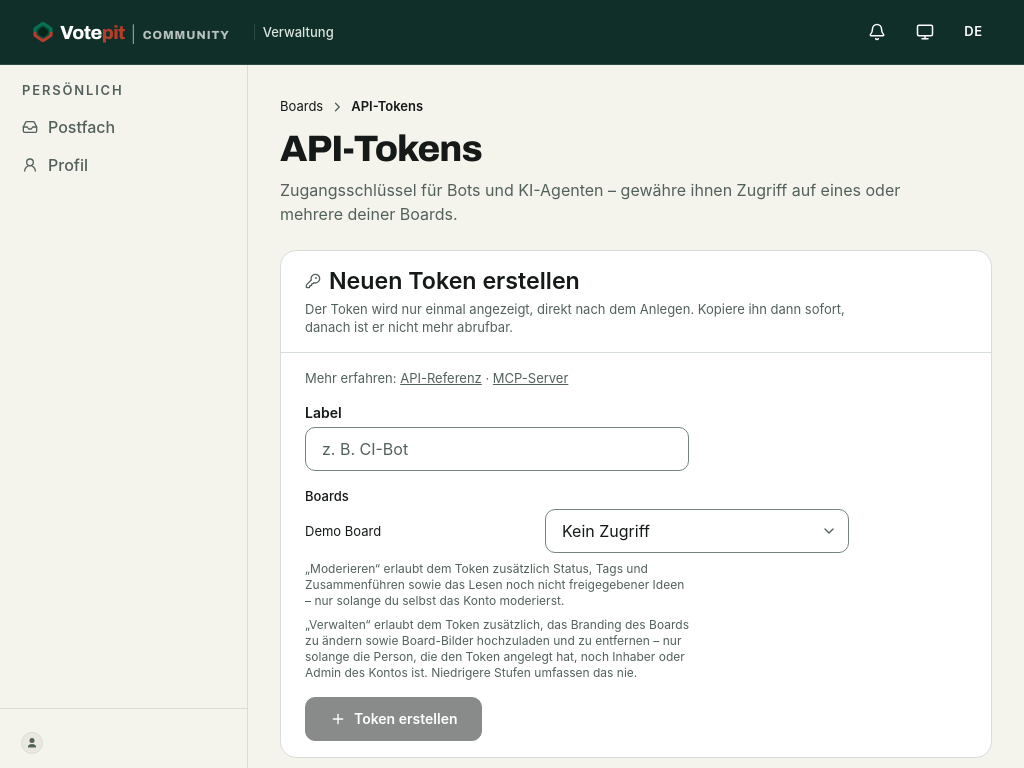
Test: ApiTokensPage — create form › shows the label field error returned by the API
Type "x" into the field labelled "Label".
click(497, 449); type("x")  # box x1=305 y1=427 x2=689 y2=471
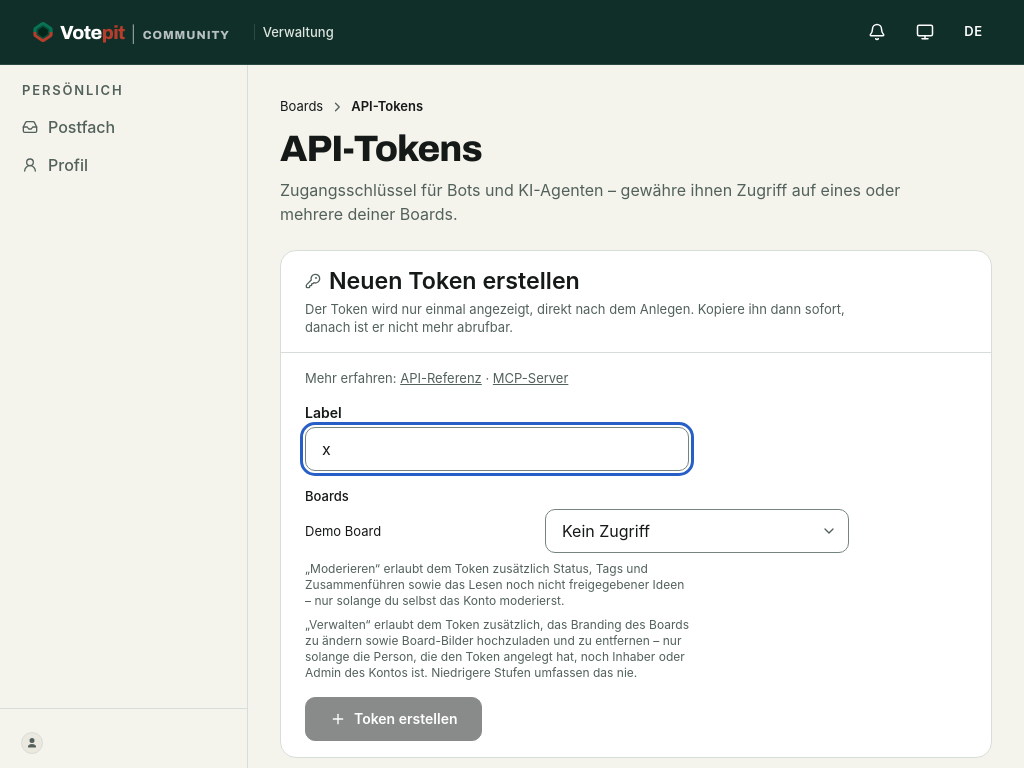
Select "Lesen & Schreiben" in the dropdown named "Zugriff für Demo Board" at (697, 531), box x1=545 y1=509 x2=849 y2=553
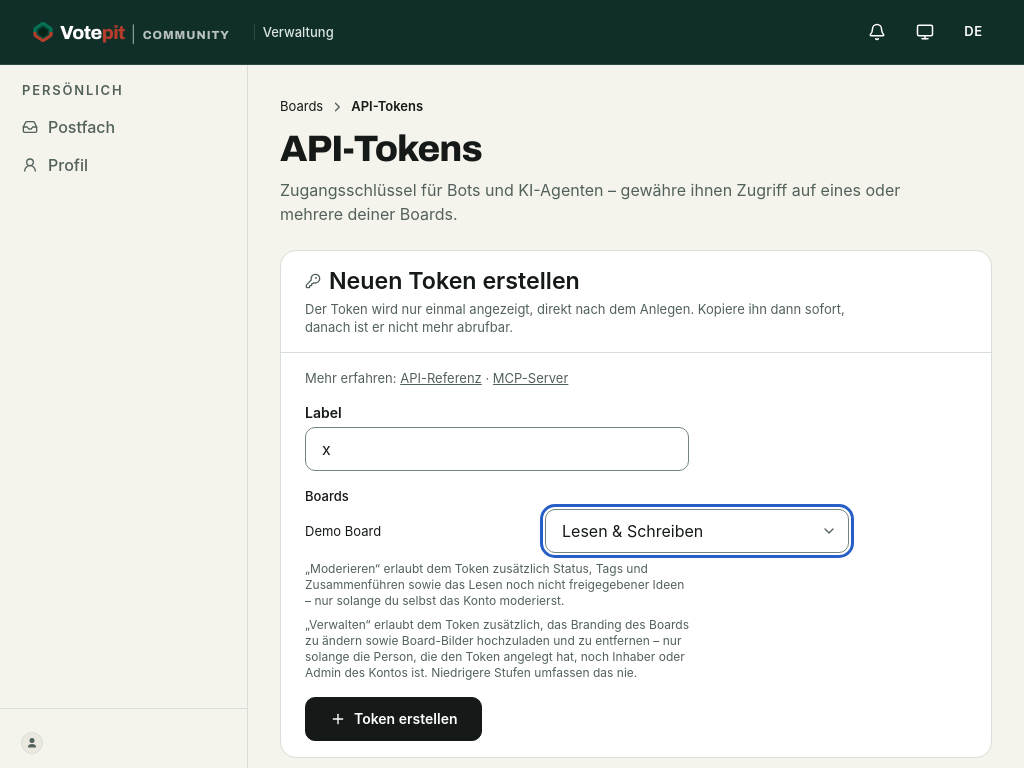
Click the button "Token erstellen".
click(394, 719)  # box x1=305 y1=697 x2=482 y2=741
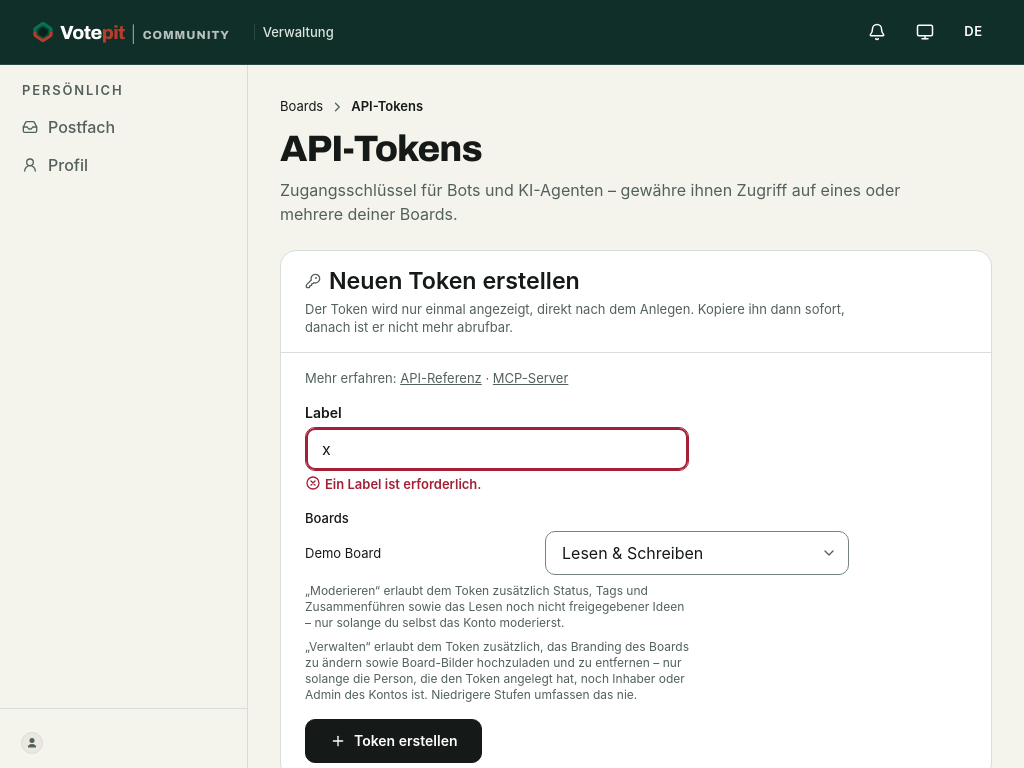
Result: the text "Ein Label ist erforderlich." is shown at x1=325 y1=475 x2=482 y2=493
